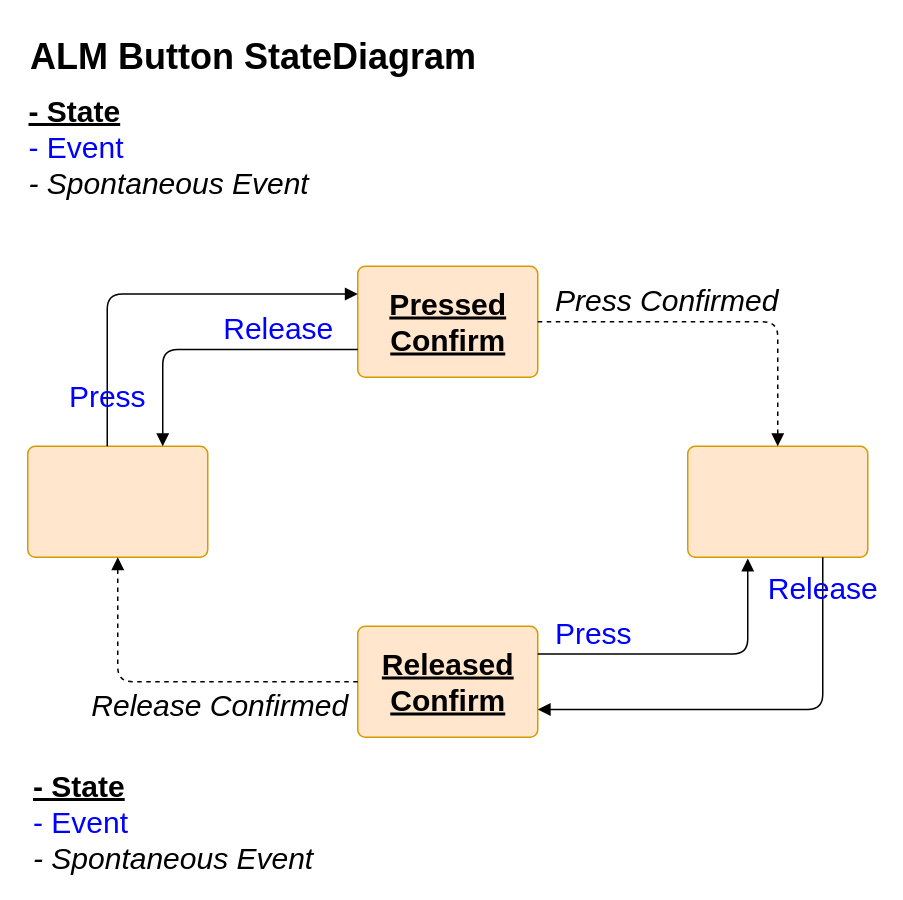
Image size: 903x900. Some labels were removed from this diagram. Here are the shapes that lost their labels. From the top down, the centre of each, then its label:
At point 117,501: "Released".
At point 777,501: "Pressed".
